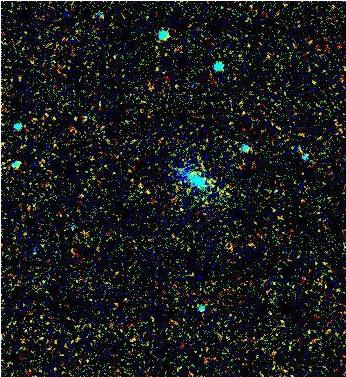star: (134, 178, 164, 208)
